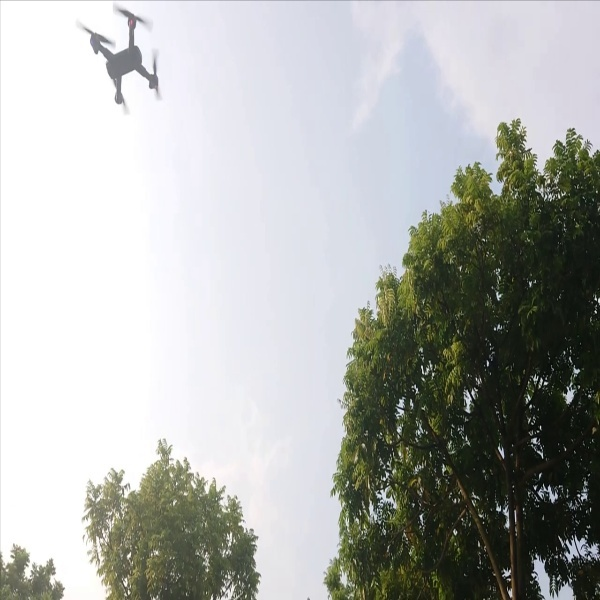drone: (73, 3, 167, 115)
